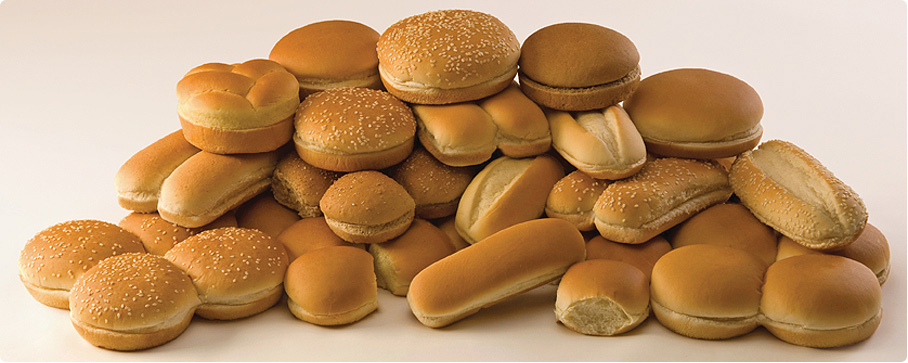hamburger_buns: (91, 24, 861, 363)
